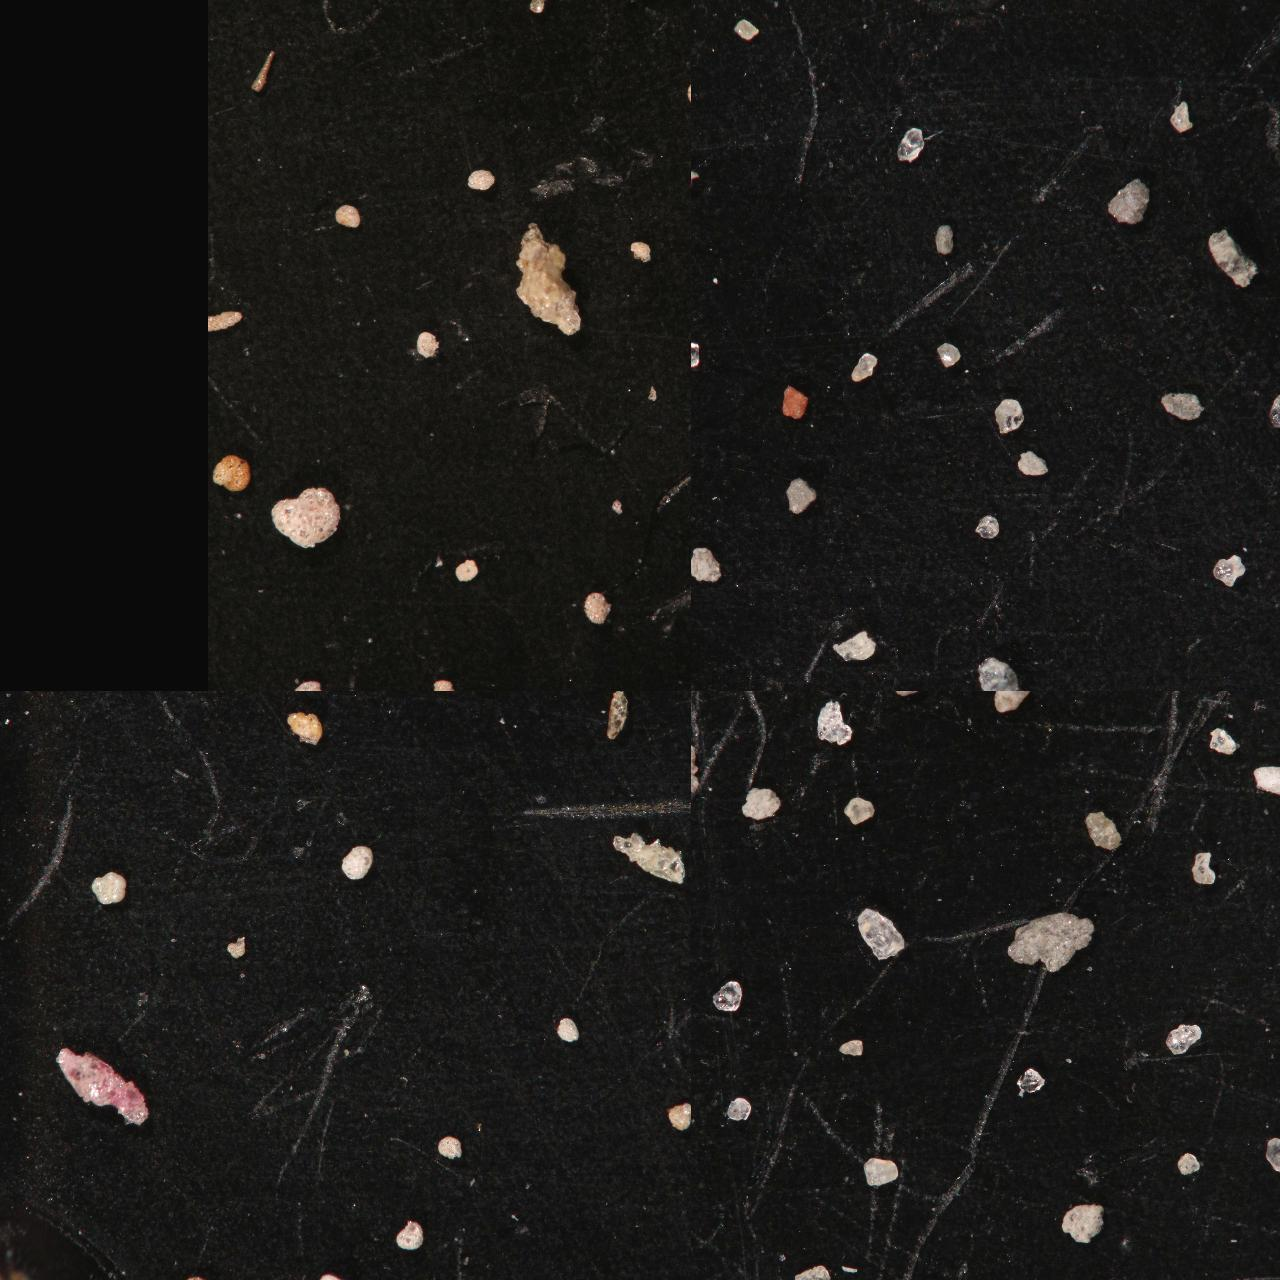Sediment: (1005, 911, 1092, 973), (1205, 229, 1257, 288), (852, 905, 906, 960), (1105, 175, 1149, 225), (975, 653, 1030, 692), (692, 290, 716, 362), (1061, 1201, 1103, 1244), (692, 712, 713, 794), (815, 697, 851, 744), (829, 628, 874, 663), (1084, 810, 1122, 851), (1159, 389, 1205, 421), (740, 785, 781, 819), (1210, 551, 1246, 588), (784, 475, 816, 516), (1197, 692, 1250, 715), (992, 395, 1022, 435), (1165, 1022, 1201, 1055), (894, 123, 924, 163), (862, 1156, 899, 1186), (692, 544, 721, 583), (708, 980, 742, 1013), (692, 156, 719, 196), (779, 382, 806, 420), (847, 350, 878, 383), (843, 794, 873, 826), (1016, 447, 1048, 477), (1250, 763, 1280, 795), (1015, 1065, 1046, 1096), (1189, 850, 1216, 884), (1167, 98, 1192, 134), (1208, 726, 1238, 755), (1105, 692, 1148, 712), (947, 692, 988, 712), (891, 692, 925, 715), (992, 692, 1029, 713), (973, 512, 1000, 540), (934, 340, 960, 368), (1007, 692, 1044, 710), (792, 1261, 830, 1280), (933, 220, 953, 256), (692, 1094, 709, 1132), (692, 692, 715, 720), (724, 1096, 750, 1121), (1175, 1151, 1199, 1177), (733, 18, 757, 41), (692, 467, 708, 502), (1247, 692, 1280, 709), (1265, 1135, 1280, 1172), (836, 1036, 863, 1057), (692, 1206, 706, 1246), (1267, 384, 1280, 428), (942, 692, 974, 708), (716, 692, 753, 706), (703, 692, 736, 707), (1164, 692, 1187, 710), (816, 692, 842, 708), (692, 339, 706, 368), (1024, 692, 1051, 707), (1132, 692, 1164, 704), (933, 692, 956, 704), (1264, 692, 1280, 704), (692, 692, 699, 702)
agglutinated: (516, 220, 583, 336), (54, 1044, 148, 1126), (592, 0, 692, 52), (198, 692, 302, 736), (270, 483, 338, 547), (610, 830, 685, 883), (348, 0, 401, 38), (601, 0, 651, 38), (101, 692, 163, 721), (211, 452, 248, 493), (286, 708, 321, 745), (246, 48, 273, 93), (341, 844, 372, 880), (90, 872, 123, 904), (604, 692, 625, 740), (393, 1219, 422, 1251), (585, 590, 610, 626), (206, 307, 240, 333), (666, 1099, 692, 1130), (535, 692, 572, 712), (333, 202, 359, 229), (318, 692, 350, 712), (607, 692, 640, 712), (443, 0, 470, 23), (527, 0, 554, 23), (415, 328, 436, 358), (628, 237, 652, 263), (452, 557, 476, 583), (556, 1016, 579, 1042), (465, 166, 492, 189), (601, 692, 631, 712), (437, 1133, 461, 1158), (225, 935, 245, 959), (469, 692, 496, 708), (467, 692, 493, 708), (294, 678, 321, 692), (345, 0, 369, 15), (314, 1271, 352, 1280), (574, 0, 595, 16), (121, 692, 147, 704), (497, 0, 520, 14), (406, 692, 436, 702), (431, 678, 452, 692), (213, 0, 233, 12), (238, 0, 259, 11), (685, 79, 692, 107), (457, 0, 481, 8)
